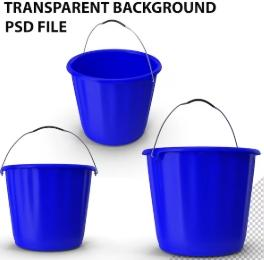SEAU: (0, 19, 264, 259)
